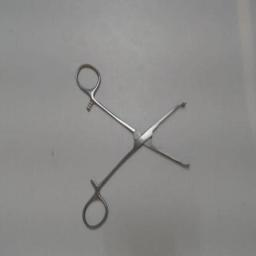Allis Tissue Forceps: (73, 59, 193, 233)
